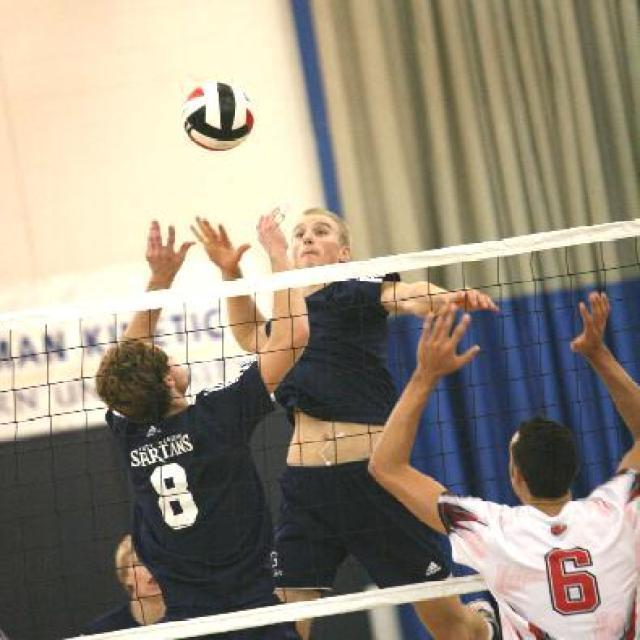volleyball: (180, 80, 253, 152)
